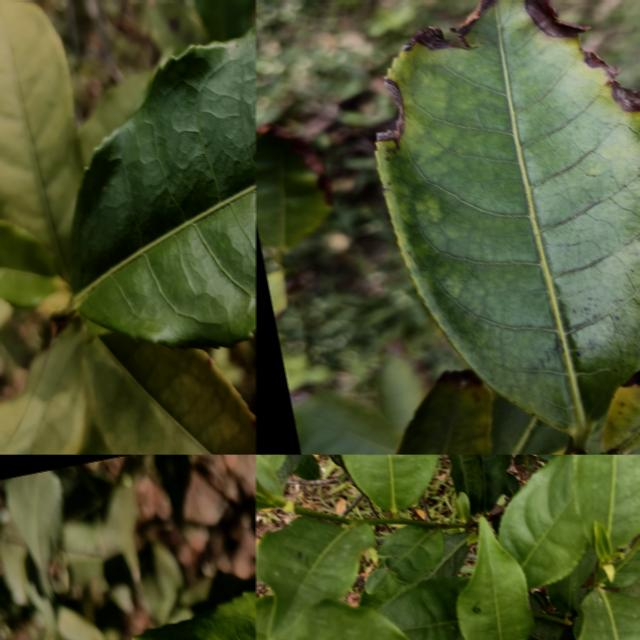Leaf: (377, 0, 640, 448), (70, 24, 256, 347), (0, 0, 86, 277), (84, 333, 256, 454), (256, 516, 375, 636), (498, 454, 586, 587), (0, 322, 87, 454), (457, 517, 534, 640), (256, 127, 332, 251), (394, 369, 492, 454), (6, 469, 62, 597), (256, 595, 411, 640), (360, 525, 445, 607), (292, 390, 400, 454), (572, 454, 640, 546), (0, 219, 67, 308), (340, 454, 439, 513), (379, 576, 468, 640), (140, 541, 184, 624), (578, 588, 640, 640), (601, 370, 640, 452), (195, 0, 255, 40), (449, 454, 482, 515), (477, 454, 507, 512), (528, 617, 576, 640), (261, 454, 286, 470)
